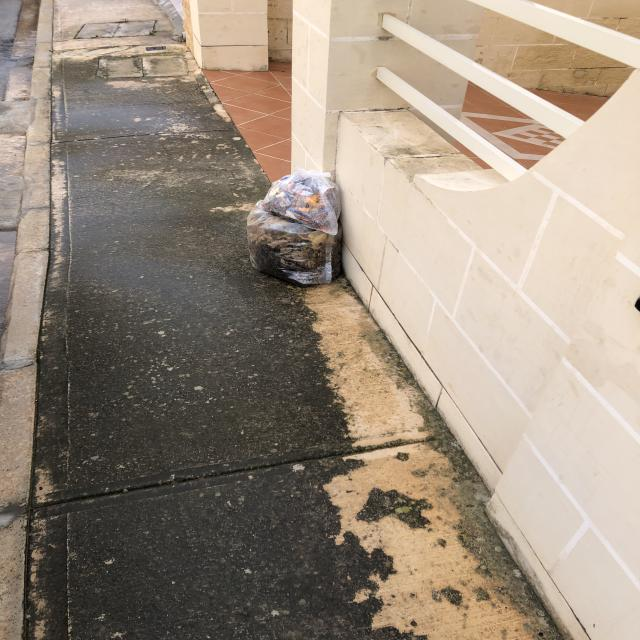Recycled Waste -Grey or Green Bag-: (247, 199, 345, 288), (262, 165, 343, 237)
